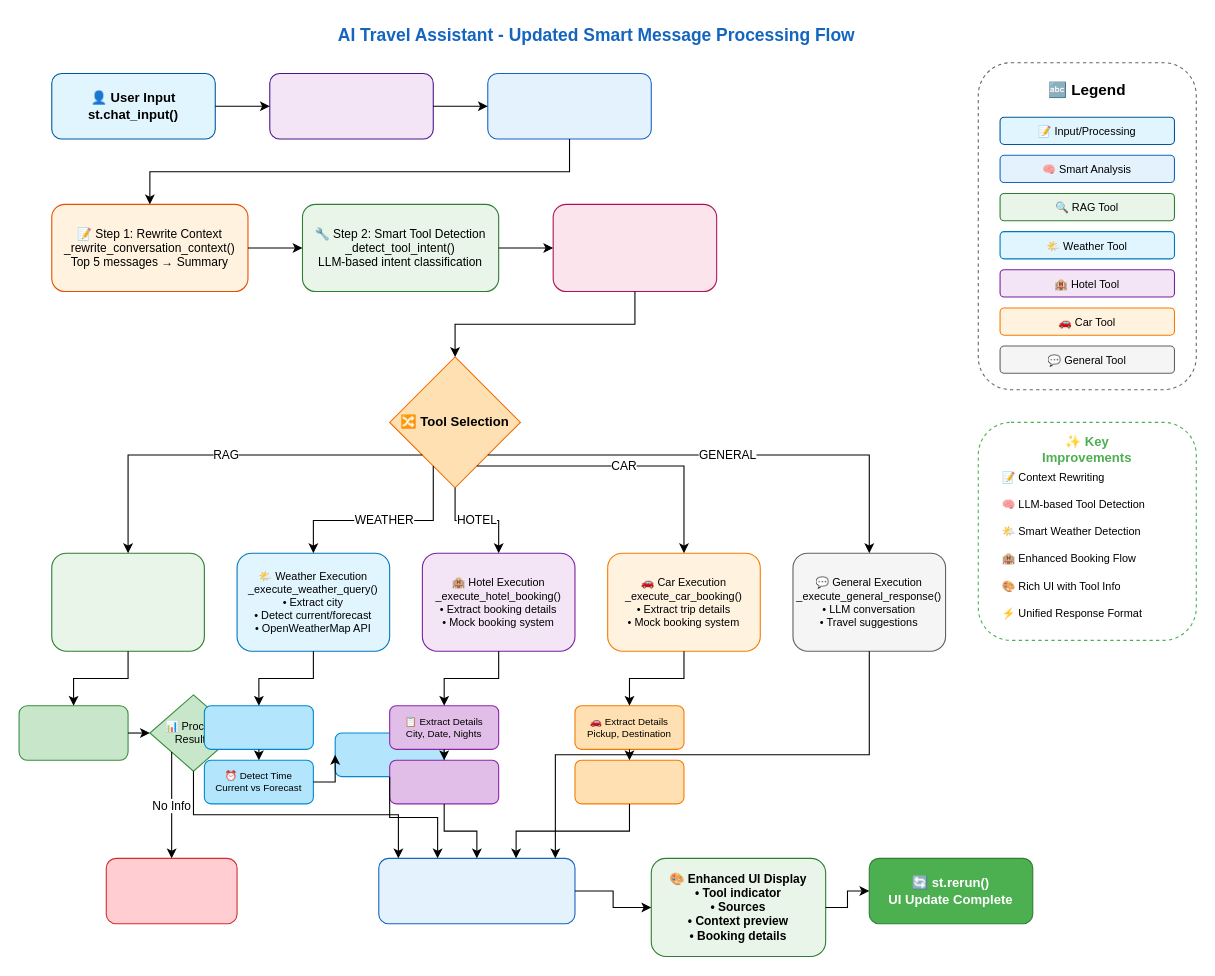
Some shapes in this 1215 by 976 pixel diagram are drawn without their labels. Here are the shapes that lost their labels. From the top down, the centre of each, then its label:
At point (351, 105): "📝 Add to Session State messages.append()".
At point (569, 105): "🧠 Smart Analysis plan_travel()".
At point (634, 247): "⚡ Step 3: Execution Router Route to specific tool".
At point (127, 601): "🔍 RAG Execution _execute_rag_search() • Query vector DB • Extract sources".
At point (73, 732): "📚 Vector DB Search rag_system.query()".
At point (258, 727): "🏙️ Extract City _extract_city_from_query()".
At point (389, 754): "🌐 Weather API Call OpenWeatherMap".
At point (444, 781): "🏨 Mock Booking Generate confirmation".
At point (629, 781): "🚙 Mock Booking Generate confirmation".
At point (171, 890): "❓ Fallback Handler No RAG info found".
At point (476, 890): "📦 Response Aggregator Format unified response".
